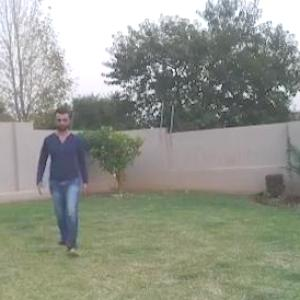follow: (46, 110, 90, 248)
